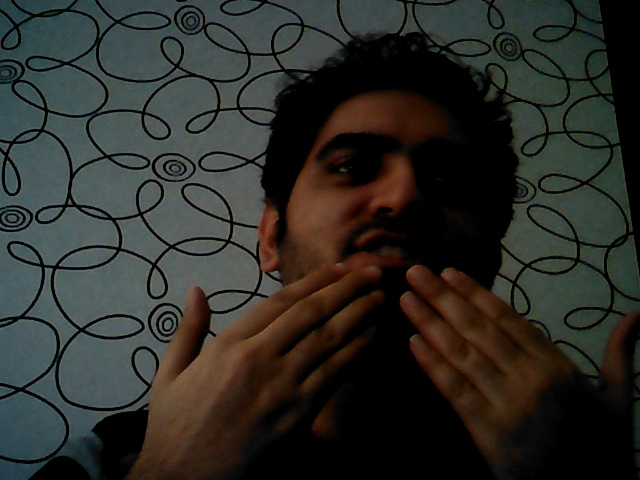ThankYou: (140, 260, 640, 480)
